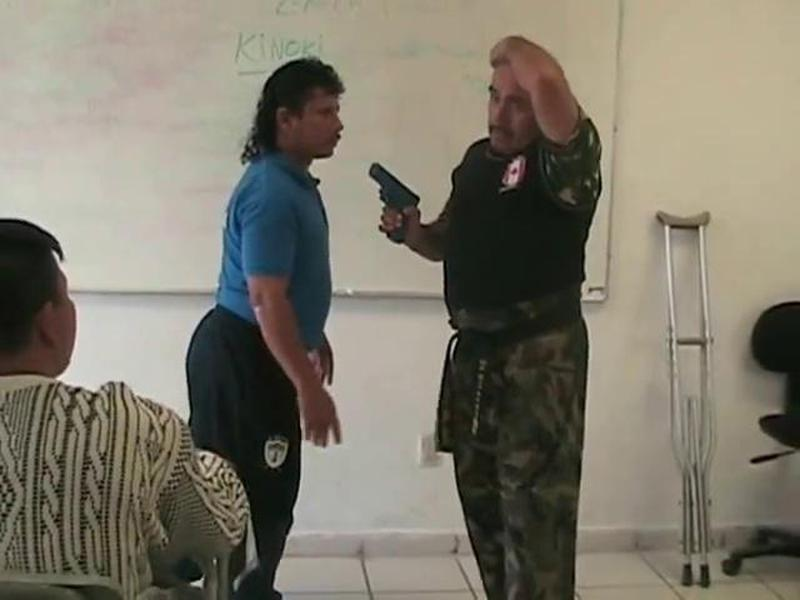Pistola: (365, 159, 426, 242)
